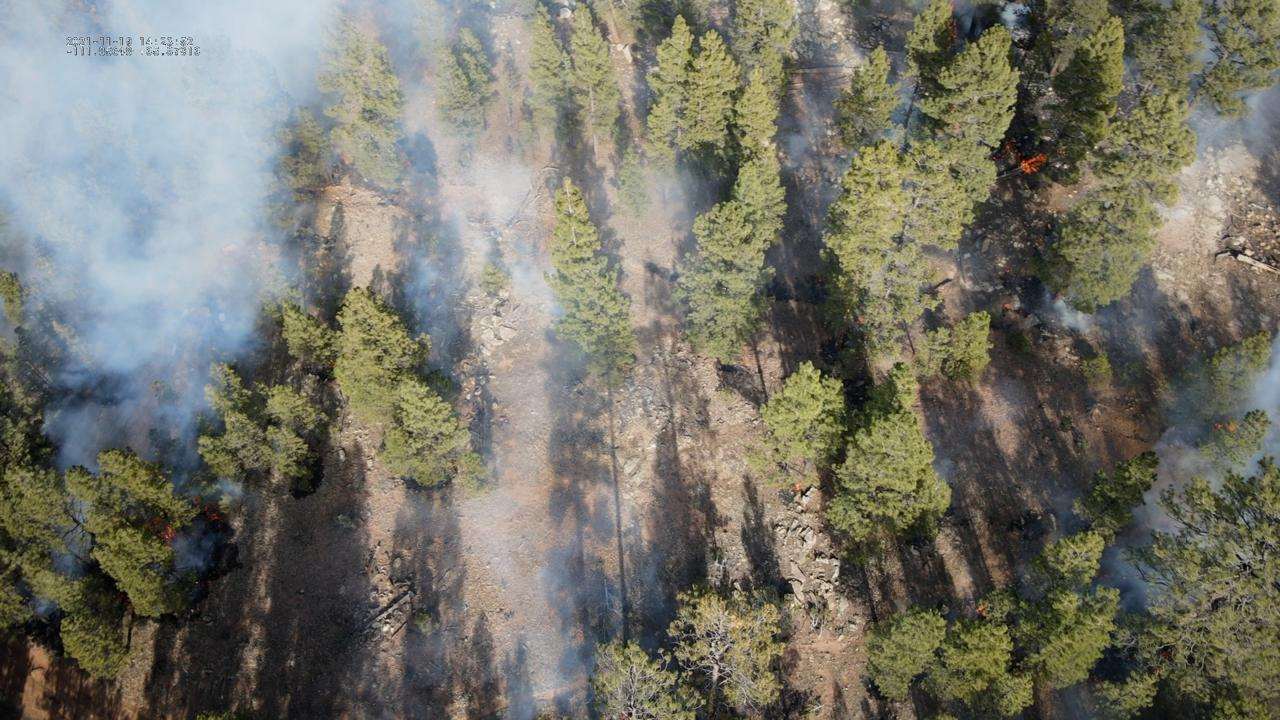fire: (1021, 152, 1047, 176), (1214, 420, 1239, 434), (160, 524, 178, 539), (973, 605, 987, 616), (999, 301, 1015, 310), (792, 482, 801, 493), (1007, 142, 1012, 153)
smoke: (0, 0, 743, 720), (1114, 323, 1280, 608), (773, 56, 922, 235), (1179, 0, 1280, 174), (1048, 297, 1119, 336), (1000, 0, 1036, 42), (1121, 58, 1147, 88), (933, 457, 956, 488)
